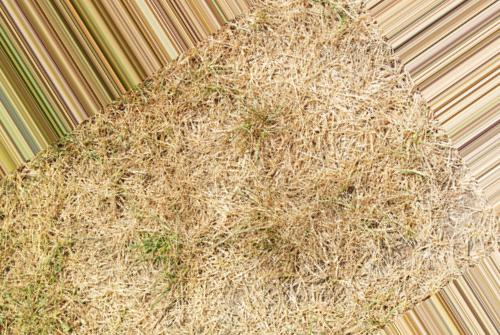patch: (15, 194, 206, 335), (206, 96, 375, 241), (238, 253, 372, 335), (93, 126, 196, 194)
